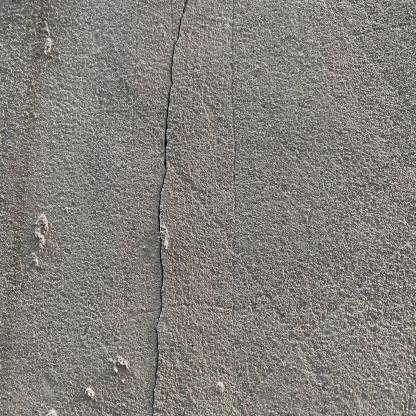crack: (151, 0, 187, 414)
